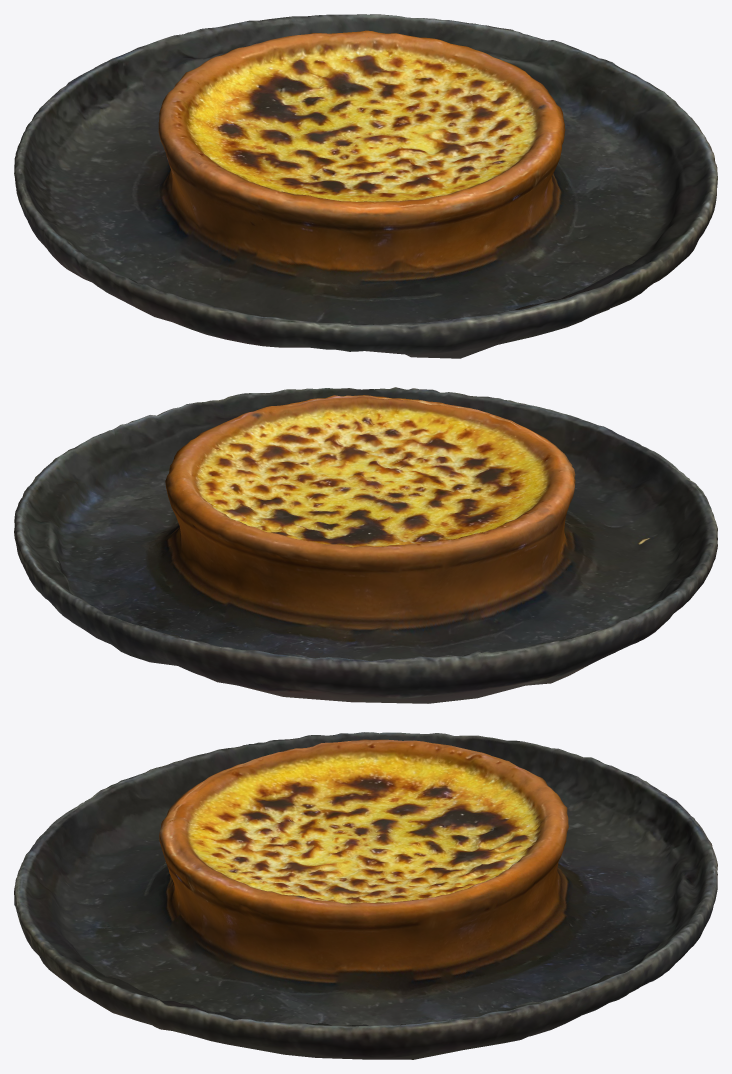
Rendered from creme-brulee.glb.
3 views of the same model, one above another, from view 1: azimuth 30°, elevation 25°; view 2: azimuth 150°, elevation 25°; view 3: azimuth 270°, elevation 25° (orthographic).
Visible parts, largest first — view 1: /ObjectCapture/Geometry/Mesh; view 2: /ObjectCapture/Geometry/Mesh; view 3: /ObjectCapture/Geometry/Mesh.
Part boxes in pixels (left/top/right/bottom): /ObjectCapture/Geometry/Mesh: left=14, top=14, right=717, bottom=358; /ObjectCapture/Geometry/Mesh: left=14, top=387, right=717, bottom=703; /ObjectCapture/Geometry/Mesh: left=14, top=732, right=717, bottom=1059.
Bounding box in the file's own units: 0.212 × 0.0555 × 0.2121.
Materials: 1 (1 with a texture image).
